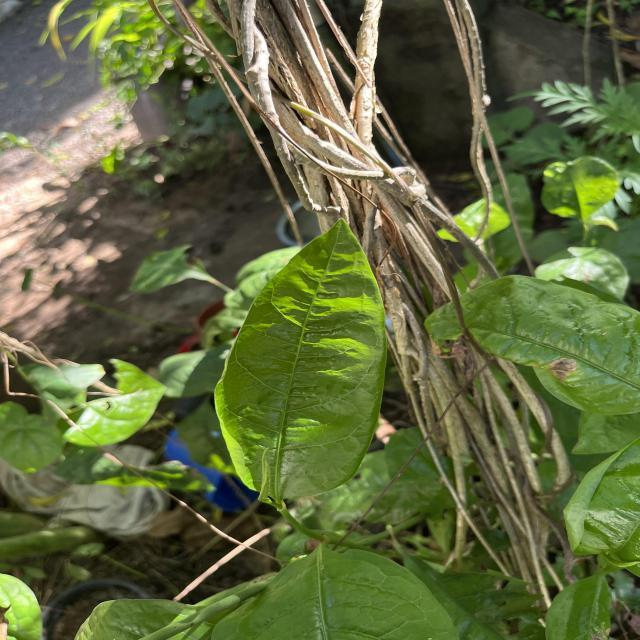Plumbago indica: (206, 215, 390, 510), (429, 273, 640, 422)
